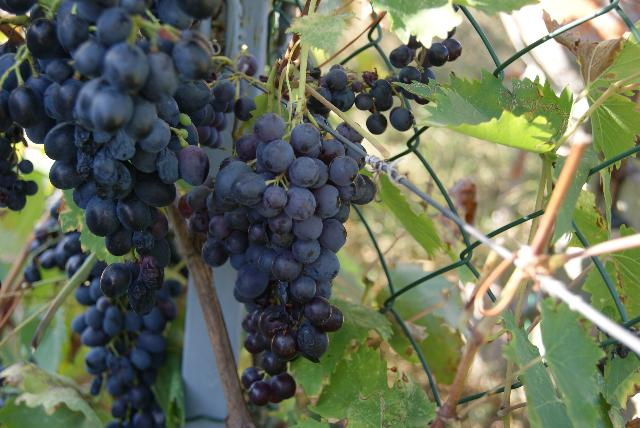grapes: (204, 112, 375, 405), (71, 255, 184, 428)
